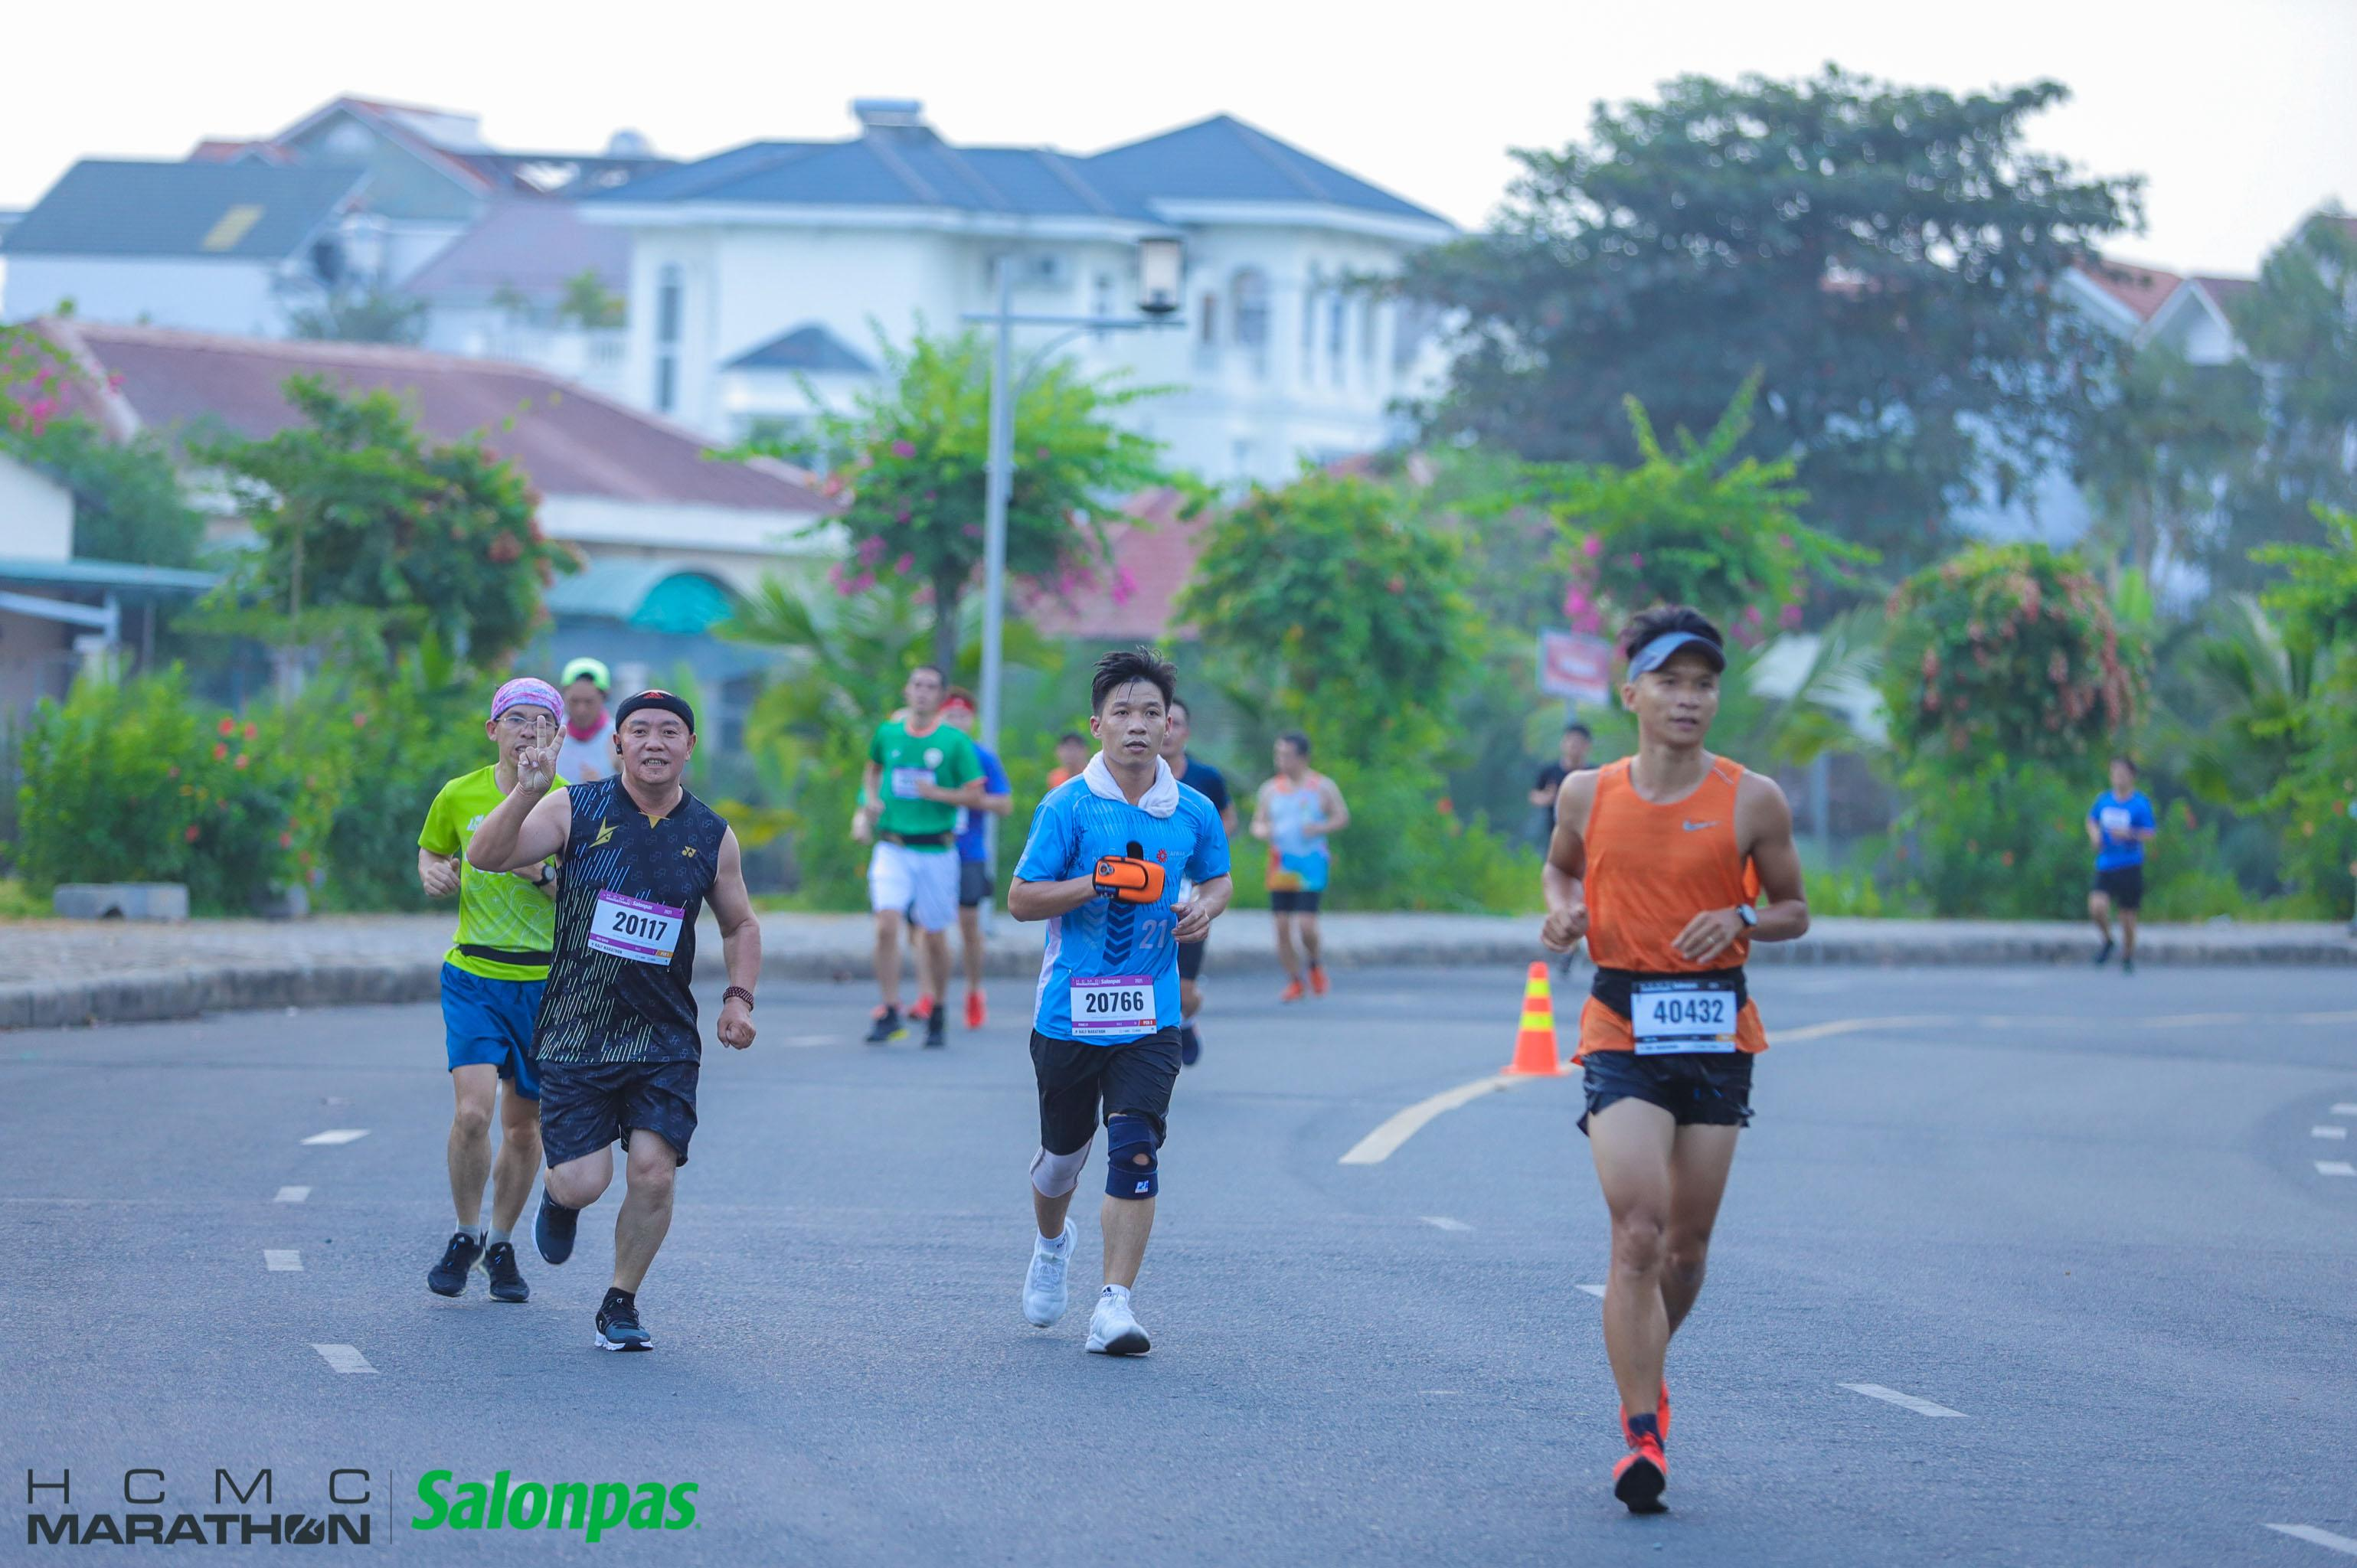bib: (1626, 975, 1739, 1048), (591, 889, 684, 971), (1073, 978, 1155, 1036)
